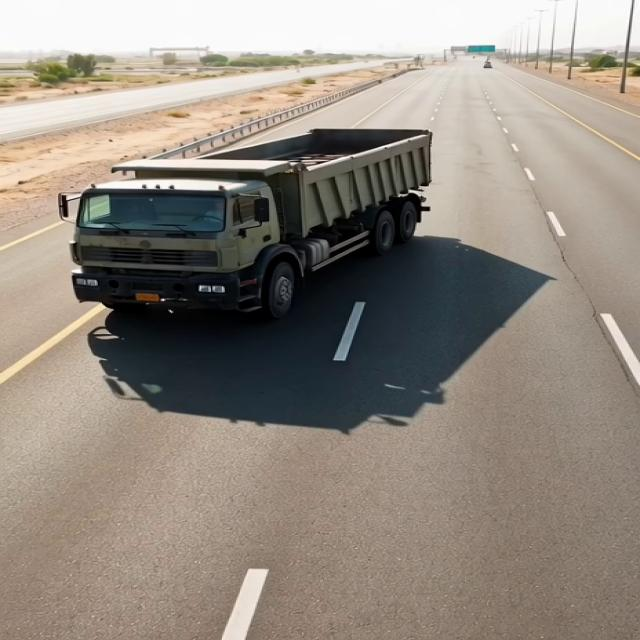trailer: (129, 128, 433, 170)
truck: (45, 117, 471, 326)
